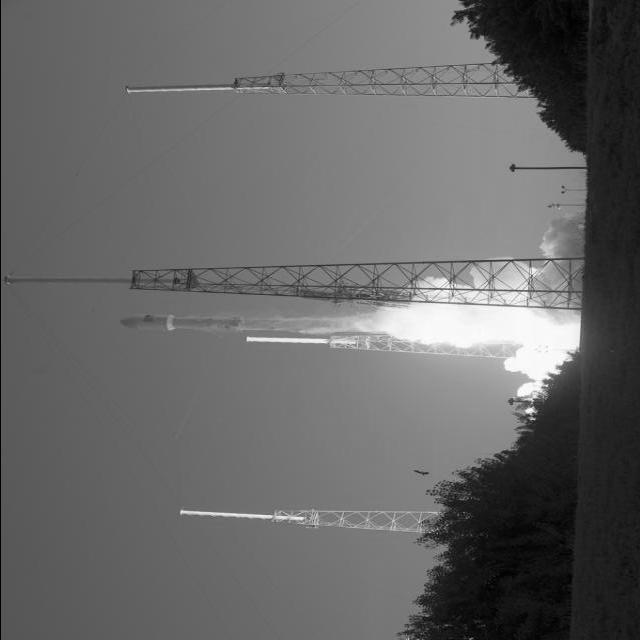missile: (117, 311, 271, 335)
